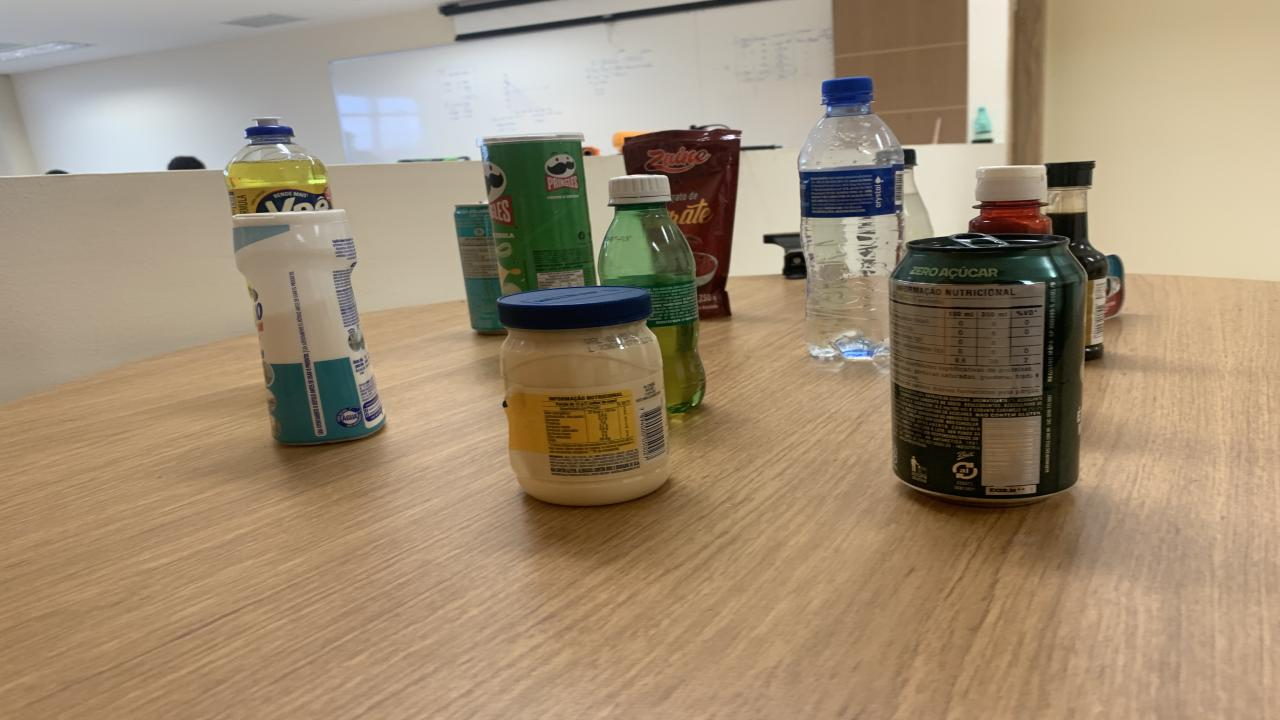Cleaner-Cleanup_Items: (232, 210, 385, 444)
Detergent-Cleanup_Items: (225, 116, 332, 214)
English_Sauce-Pantry_Items: (1048, 161, 1108, 360)
Guarana-Drinks: (598, 174, 705, 412)
Guarana_Can-Drinks: (890, 234, 1085, 504)
Ketchup-Pantry_Items: (968, 165, 1052, 234)
Mayonnaise-Pantry_Items: (500, 287, 670, 506)
Pringles-Snacks: (478, 133, 598, 294)
Soda-Drinks: (902, 148, 935, 242)
Tea-Drinks: (455, 204, 505, 334)
Tomato_Sauce-Pantry_Items: (622, 129, 742, 319)
Water_Bottle-Drinks: (798, 77, 902, 360)
